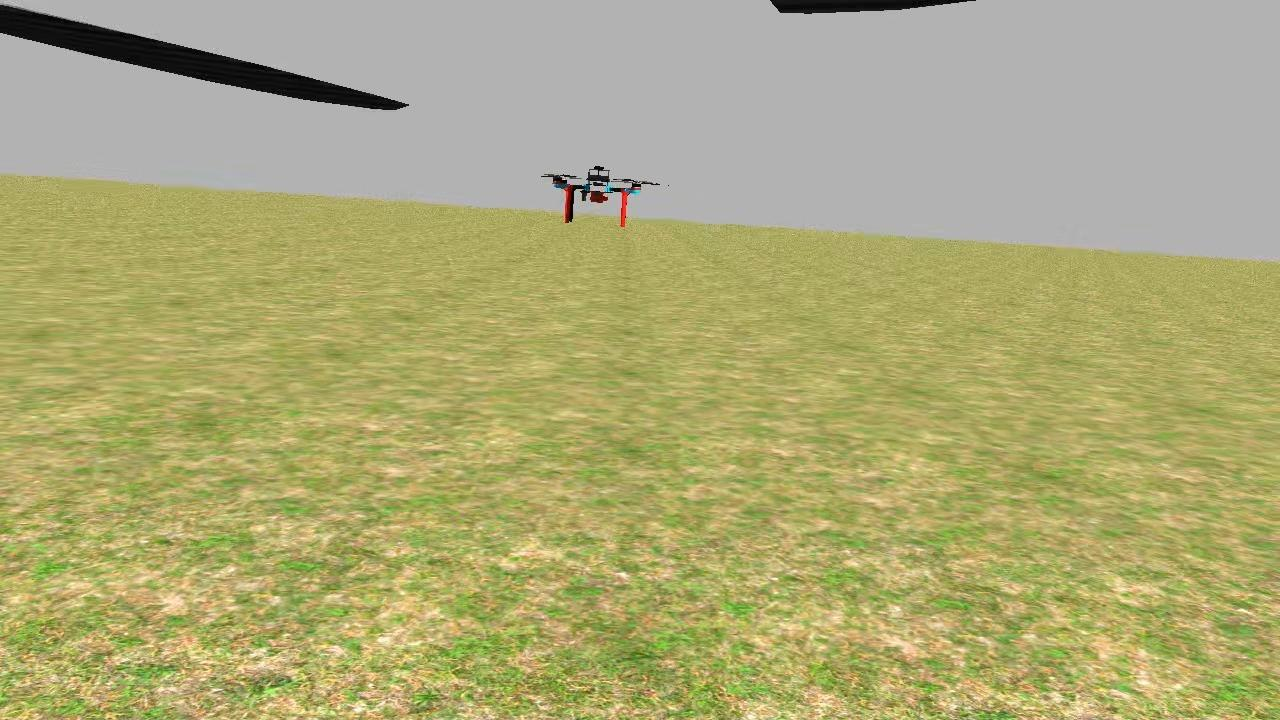UAV: (536, 158, 658, 229)
